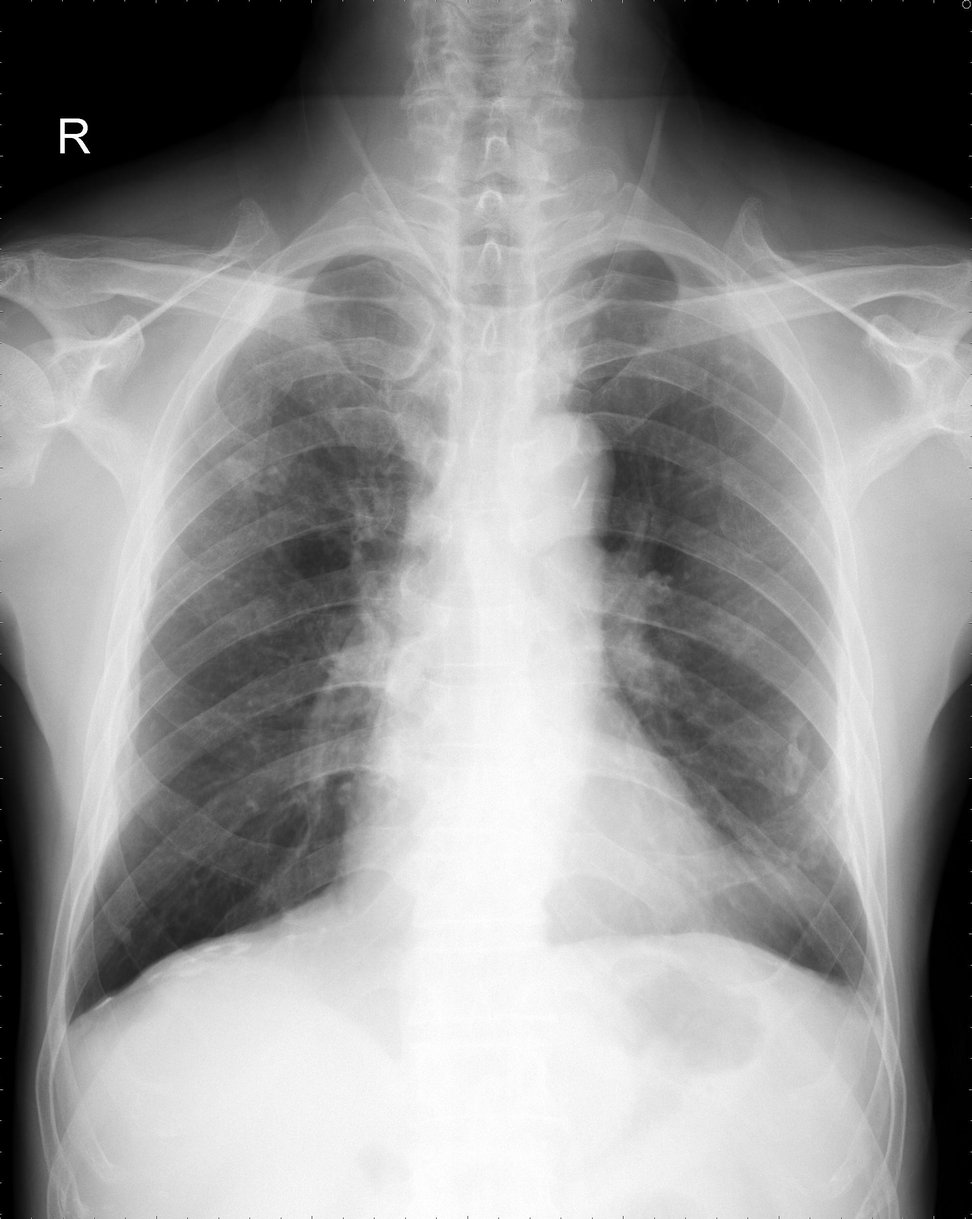Aortic enlargement: (504, 413, 611, 529)
Pleural thickening: (823, 659, 898, 944), (824, 948, 896, 1048)
